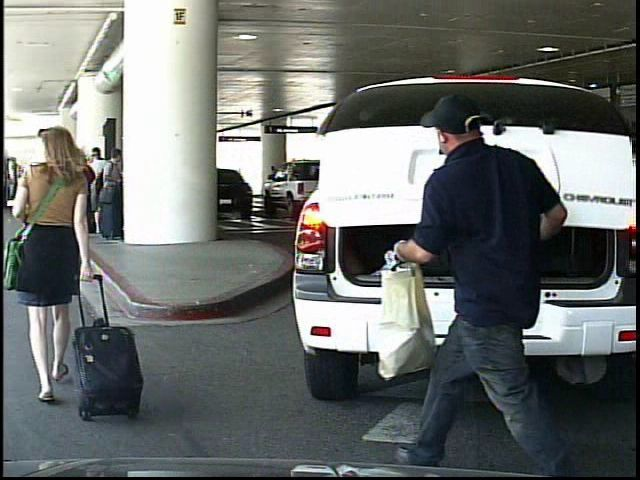person: (391, 74, 574, 473), (4, 120, 114, 424), (263, 161, 284, 207)
